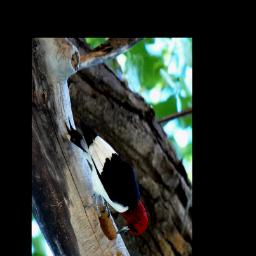Woodpecker: (61, 117, 147, 237)
